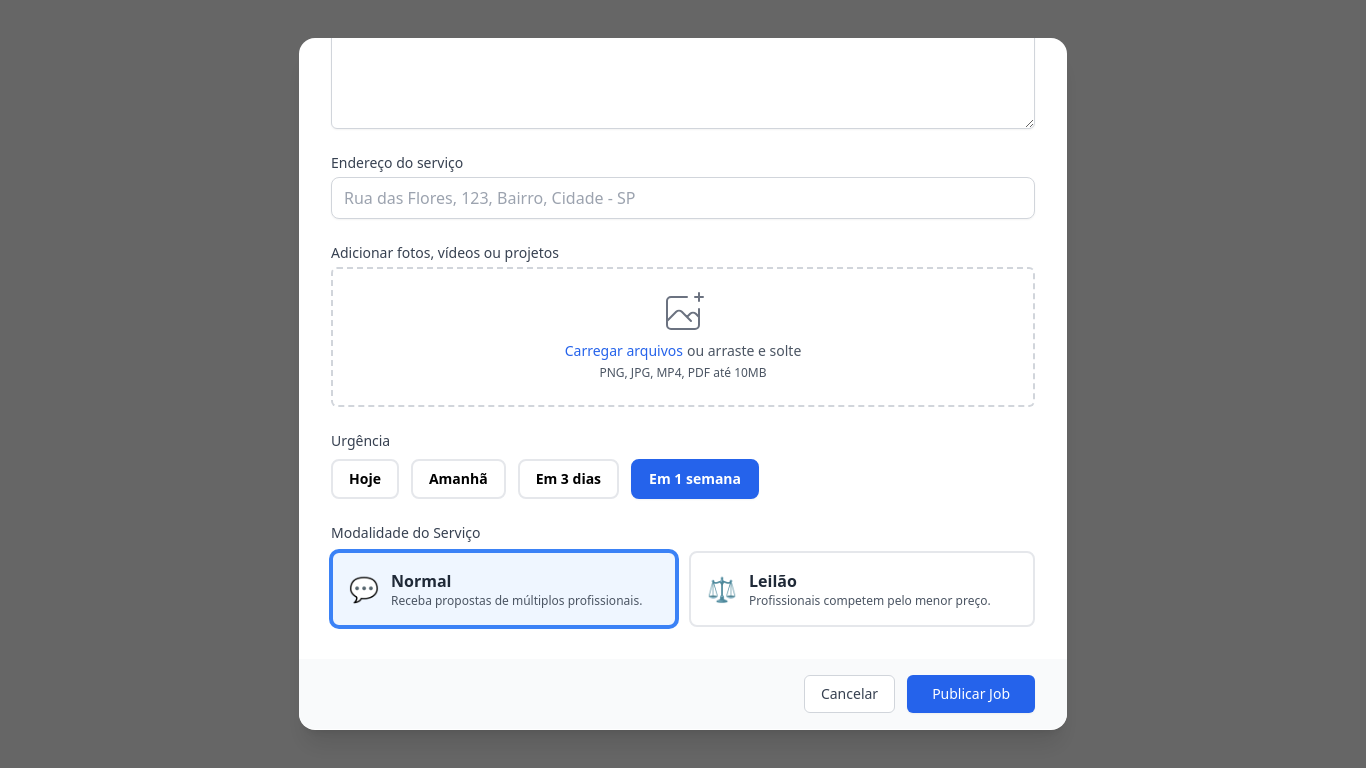
Test: AIJobRequestWizard › permite alternar entre modo Normal e Leilão
This screenshot has width=1366, height=768.
(page scrolled)
Click the text "Leilão".
click(773, 581)  # box [749,570,797,592]
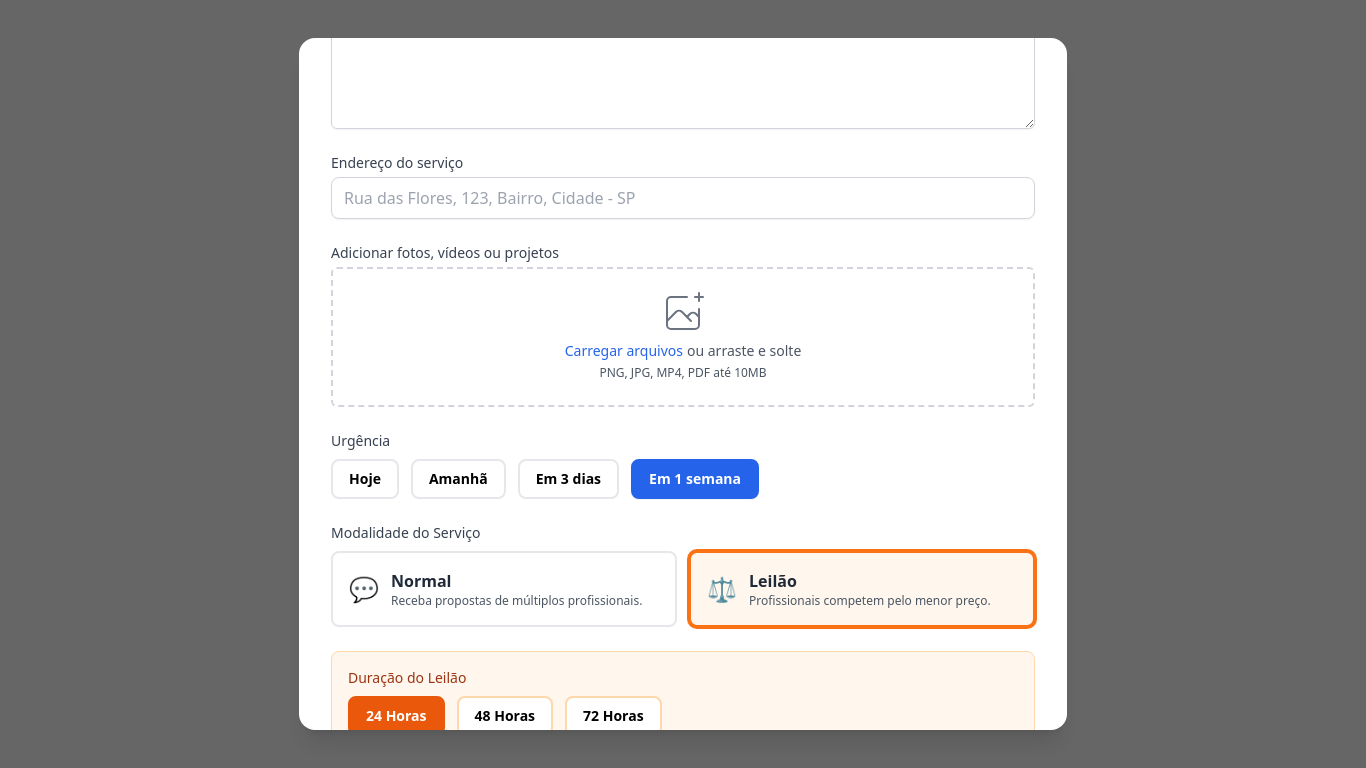
Expected: the heading "Duração do Leilão" is shown, [348,668,466,687]
Expected: the button "24 Horas" is shown, [348,696,444,730]
